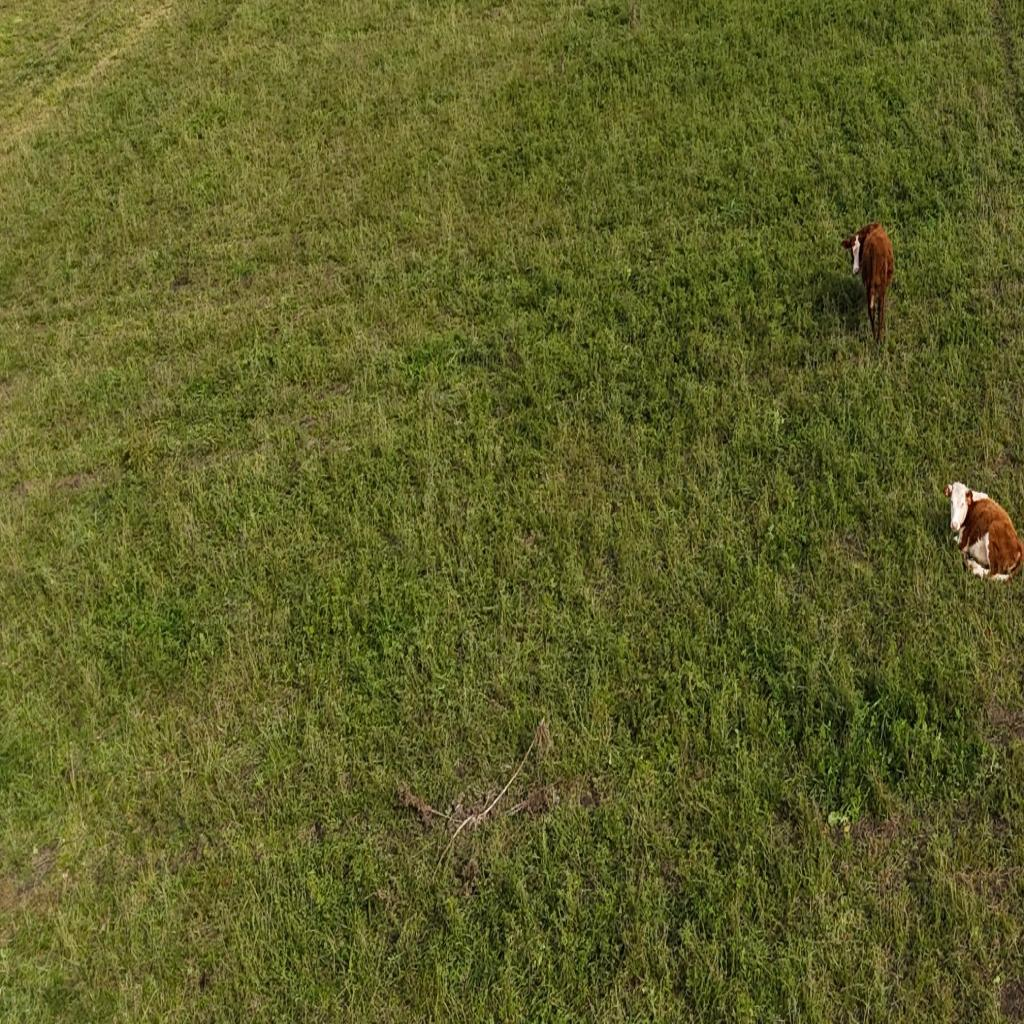cow: (937, 473, 1024, 587), (834, 216, 894, 350)
